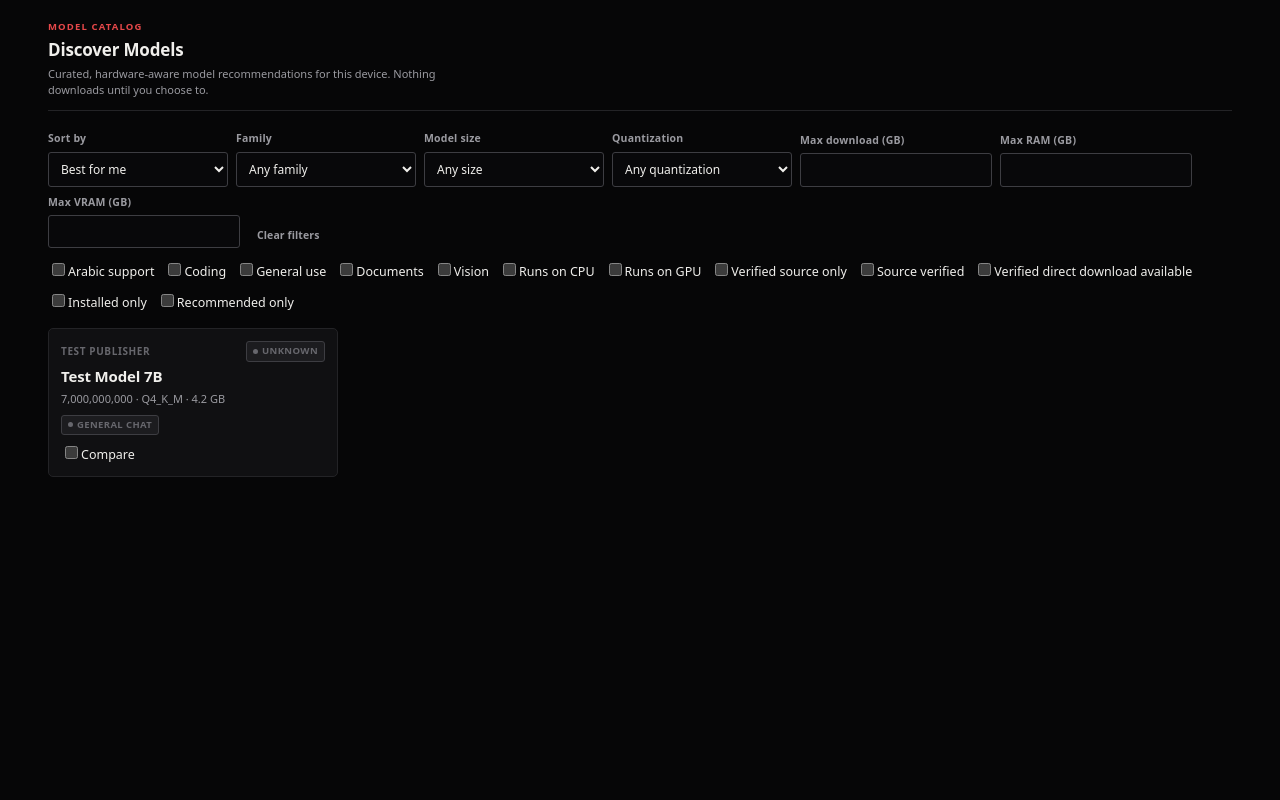
Test case: Discover page — recommendation-engine-v2 integration (Stage B.6) › shows rejection reasons in the details dialog when a build was hard-rejected
The width and height of the screenshot is (1280, 800).
Click the text "Test Model 7B": (112,376) x1=61 y1=366 x2=162 y2=386
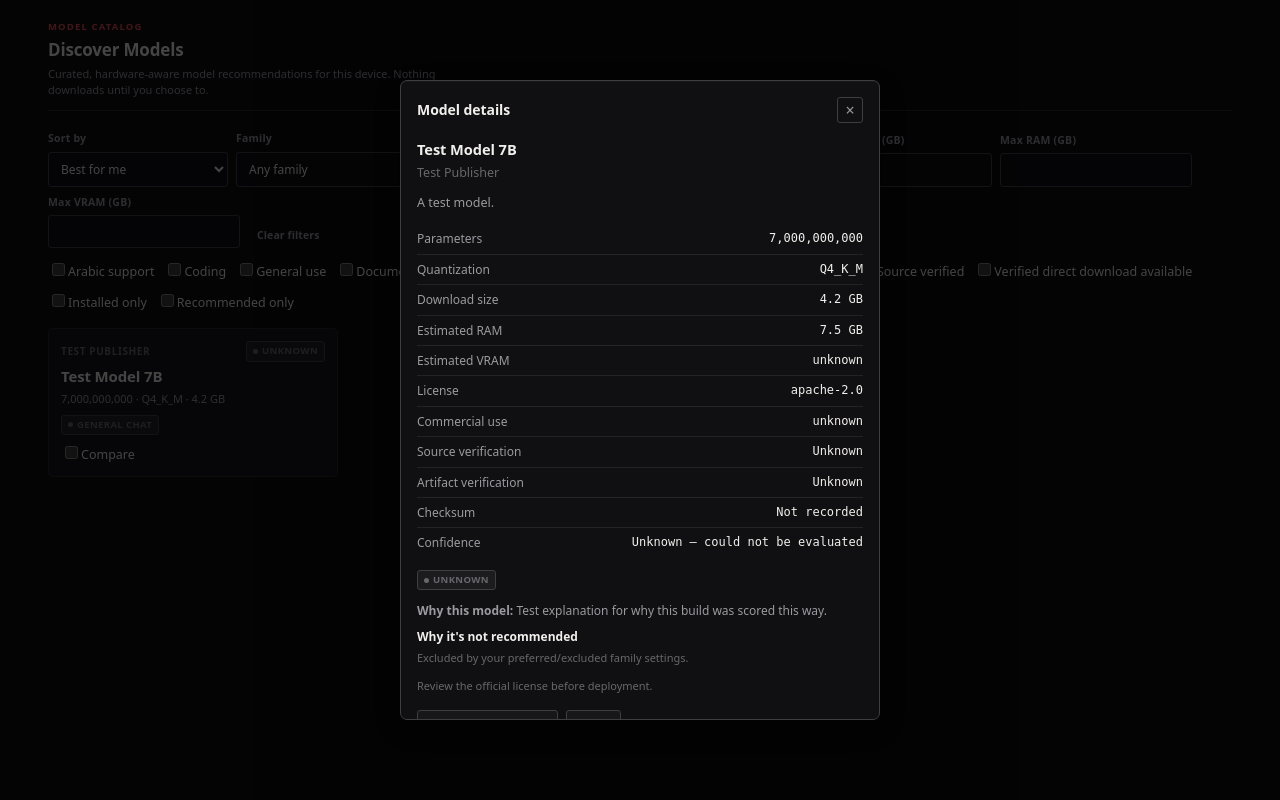
Expected: the text "Excluded by your preferred/excluded family settings." is shown, x1=417 y1=650 x2=688 y2=665
